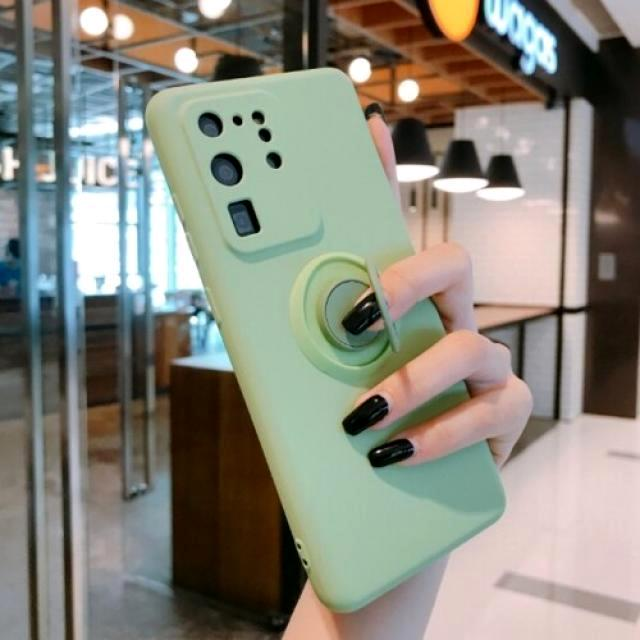lens_back: (225, 195, 264, 236), (208, 150, 245, 187), (196, 105, 228, 142)
phone: (145, 61, 507, 612)
